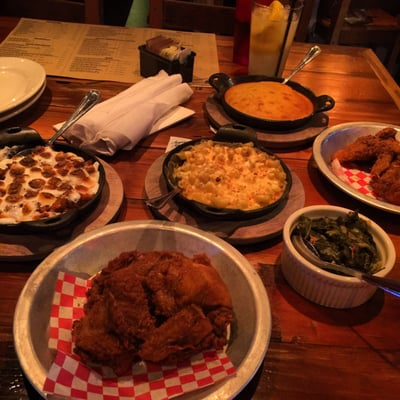salad: (282, 45, 321, 85)
sandwich: (45, 89, 101, 146)
sushi: (279, 205, 397, 310)
